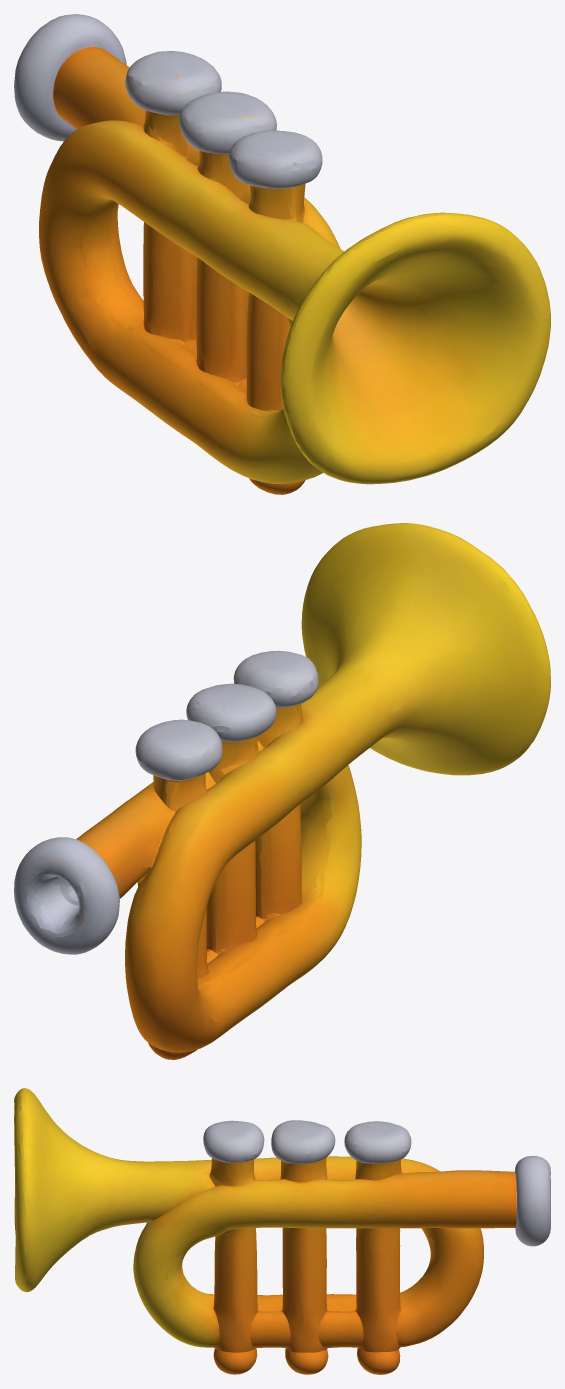
The model's file is trumpet.glb.
3 views of the same model, one above another, from view 1: azimuth 30°, elevation 25°; view 2: azimuth 150°, elevation 25°; view 3: azimuth 270°, elevation 25° (orthographic). The views are drawn at different scales.
Parts seen in each view (by area): view 1: model; view 2: model; view 3: model.
Part boxes in pixels (x1,y1,x2,y2): model: [14, 14, 550, 494]; model: [14, 523, 550, 1059]; model: [14, 1088, 550, 1374].
Size of the model in its own units: 0.3969 by 0.5522 by 1.
1 material, 1 textured.
